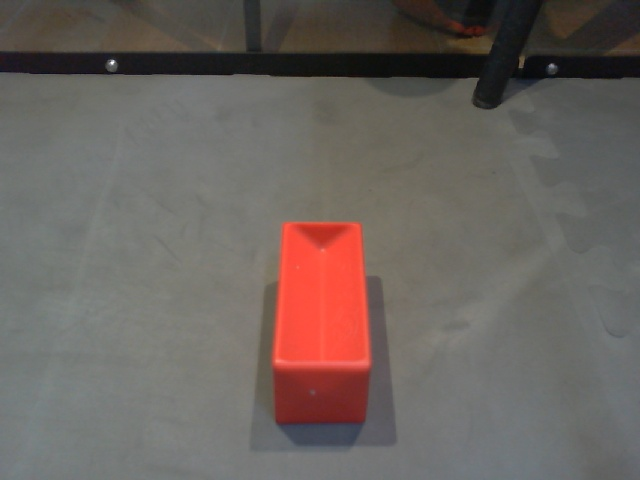RedSample: (268, 218, 375, 428)
